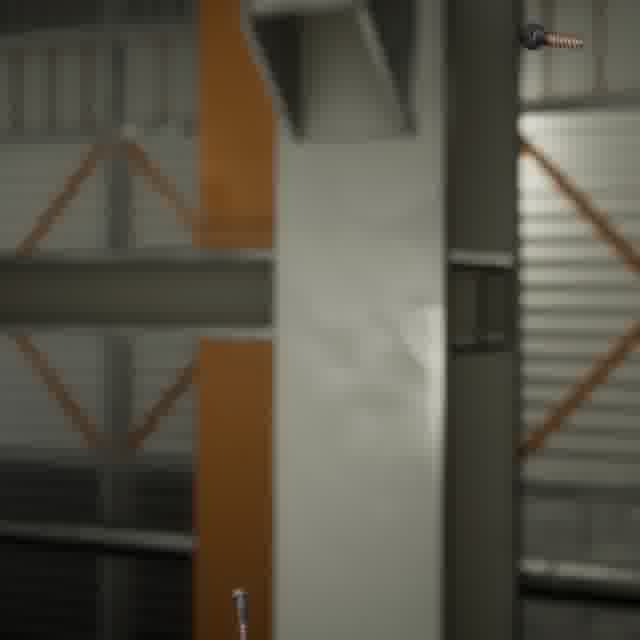bolt: (518, 19, 589, 55), (226, 584, 255, 640)
